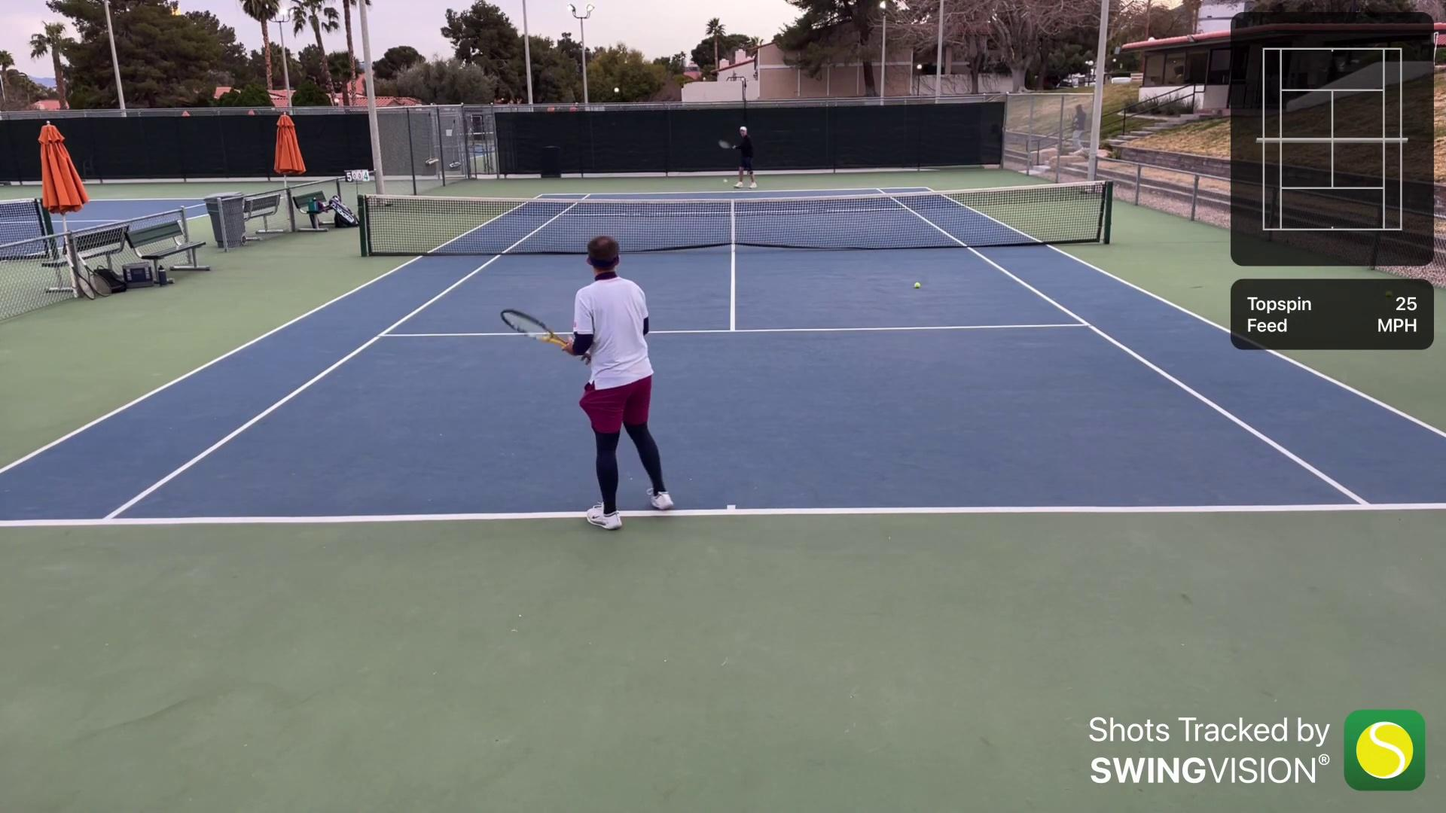ball: (1382, 289, 1393, 299), (913, 280, 922, 291), (720, 177, 729, 186)
